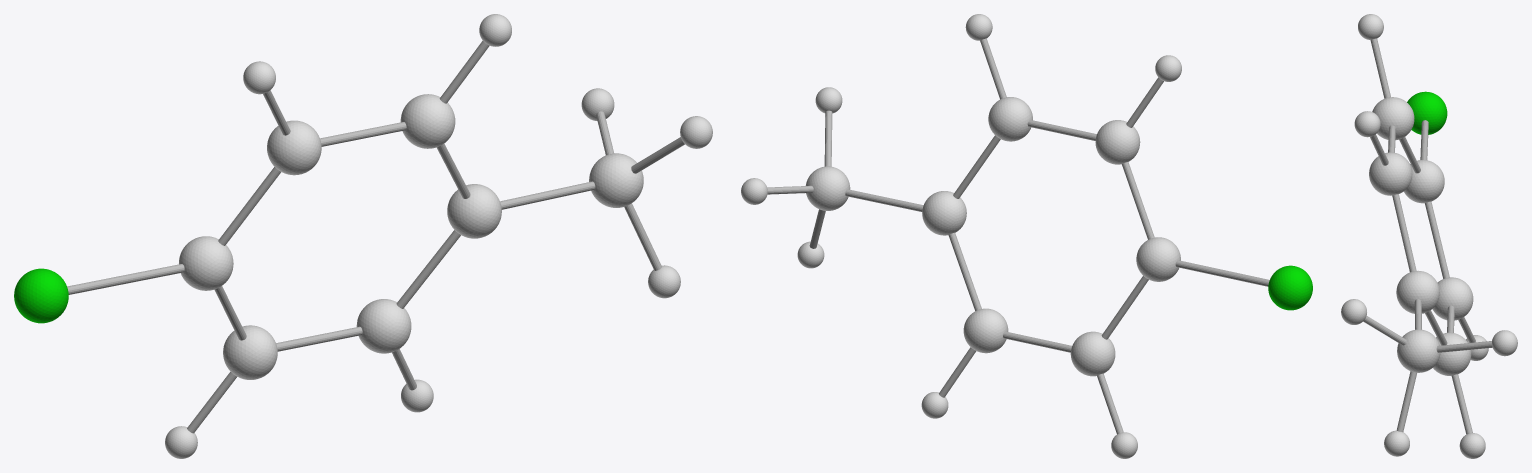
Rendered from Cc1ccc_cc1_Cl.glb.
3 renders of one model, left to right at view 1: azimuth 30°, elevation 25°; view 2: azimuth 150°, elevation 25°; view 3: azimuth 270°, elevation 25°, orthographic. The views are drawn at different scales.
Visible parts, largest first — view 1: world; view 2: world; view 3: world.
Boxes of the visible parts, <box> form: world: <box>14,14,712,458</box>; world: <box>741,14,1312,458</box>; world: <box>1341,14,1517,458</box>.
Size of the model in its own units: 6.83 by 4.52 by 2.03.
